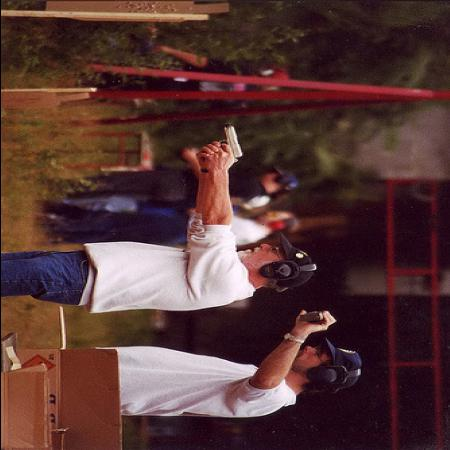Pistol: (198, 125, 245, 166)
